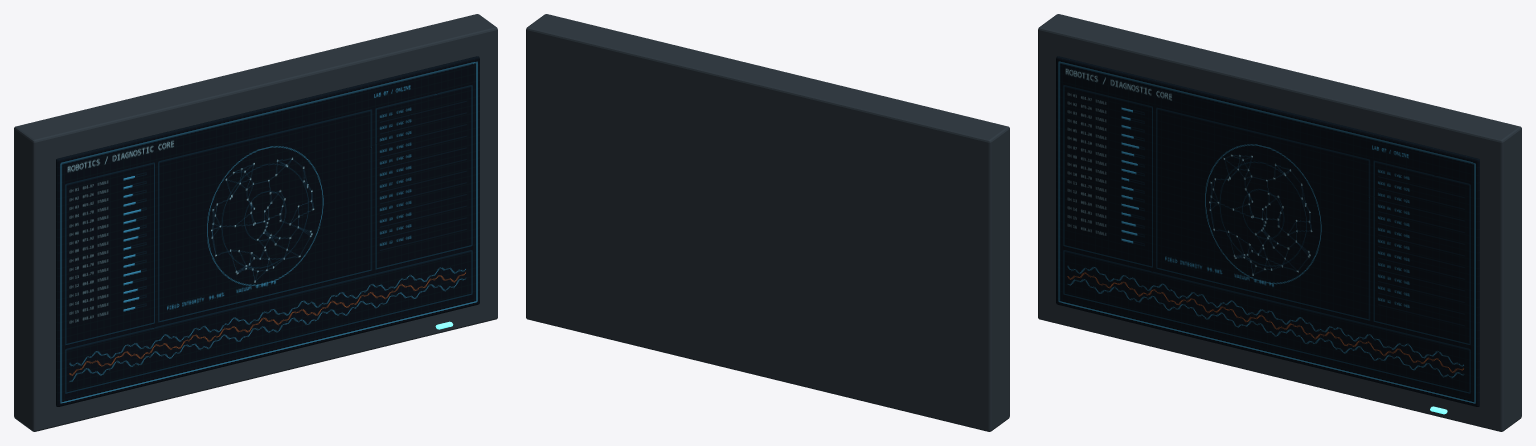
File: SM_Lab_Console__Display_02.fbx
3 renders of one model, left to right at view 1: azimuth 30°, elevation 25°; view 2: azimuth 150°, elevation 25°; view 3: azimuth 330°, elevation 25°, orthographic.
Visible parts, largest first — view 1: SM_Lab_Console__Display_02; view 2: SM_Lab_Console__Display_02; view 3: SM_Lab_Console__Display_02.
Part boxes in pixels (x1,y1,x2,y2): SM_Lab_Console__Display_02: (14,14,497,431); SM_Lab_Console__Display_02: (526,14,1009,431); SM_Lab_Console__Display_02: (1038,14,1521,431).
Size of the model in its own units: 72.5 by 7.2 by 43.5.
